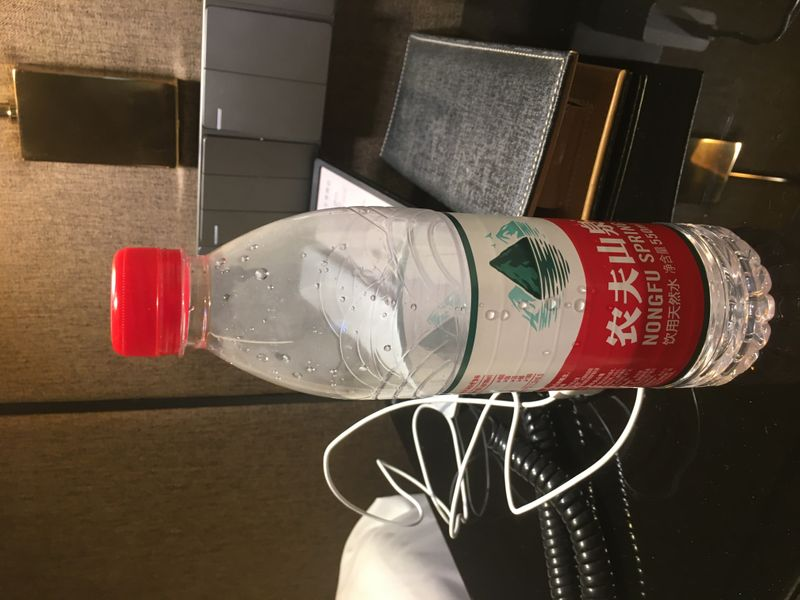5eca67a90202601e8cb8d104: (106, 207, 772, 397)
